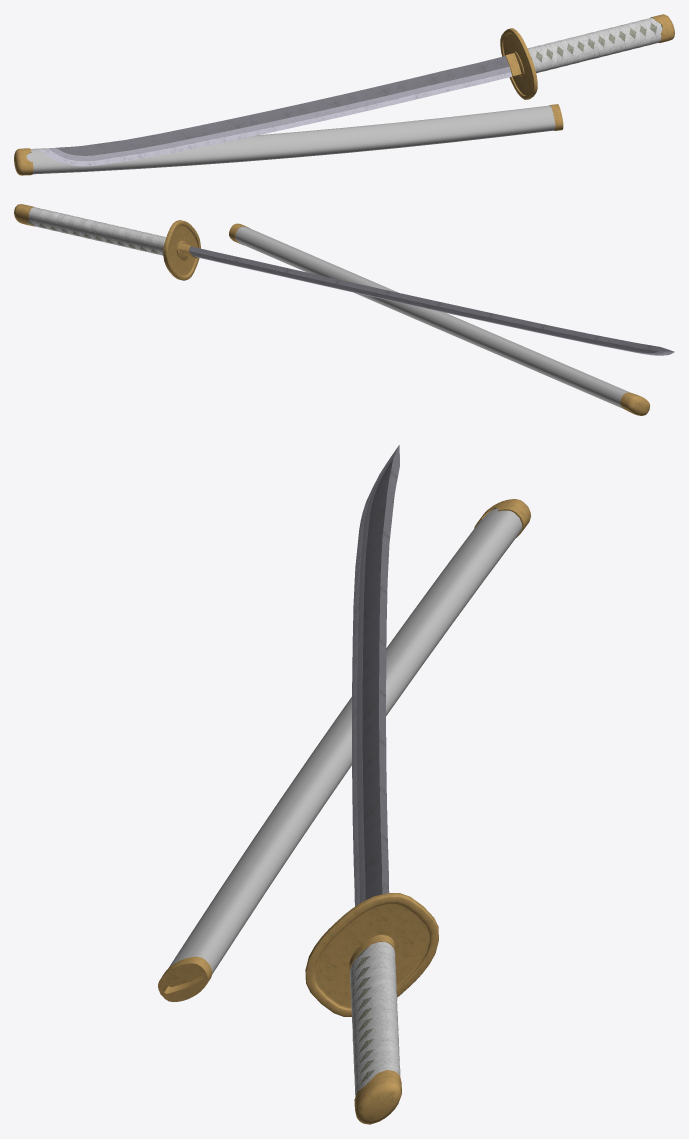
File: zoro_katana.glb
The picture shows the model from 3 angles, top to bottom: view 1: azimuth 30°, elevation 25°; view 2: azimuth 150°, elevation 25°; view 3: azimuth 270°, elevation 25°; orthographic projection. The views are drawn at different scales.
Visible parts, largest first — view 1: blade_Blade_0, Scabbard_Blade_0, cloth_Cloth_0; view 2: Scabbard_Blade_0, blade_Blade_0, cloth_Cloth_0; view 3: blade_Blade_0, Scabbard_Blade_0, cloth_Cloth_0.
Part boxes in pixels (<box>): blade_Blade_0: <box>39,14,674,166</box>; Scabbard_Blade_0: <box>14,104,563,175</box>; cloth_Cloth_0: <box>527,17,662,73</box>; Scabbard_Blade_0: <box>229,223,650,415</box>; blade_Blade_0: <box>14,204,674,355</box>; cloth_Cloth_0: <box>29,207,166,255</box>; blade_Blade_0: <box>305,445,438,1124</box>; Scabbard_Blade_0: <box>158,499,530,1001</box>; cloth_Cloth_0: <box>350,941,400,1096</box>.
Bounding box in the file's own units: 1.75 × 0.1619 × 0.4509.
2 materials, 2 textured.
